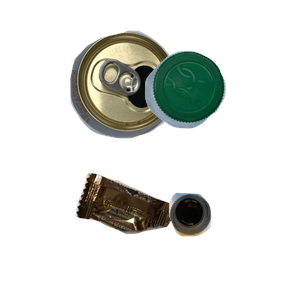glass: (166, 190, 300, 300)
metal: (68, 28, 237, 159)
plastic: (142, 48, 300, 169)
trash: (73, 171, 242, 300)
